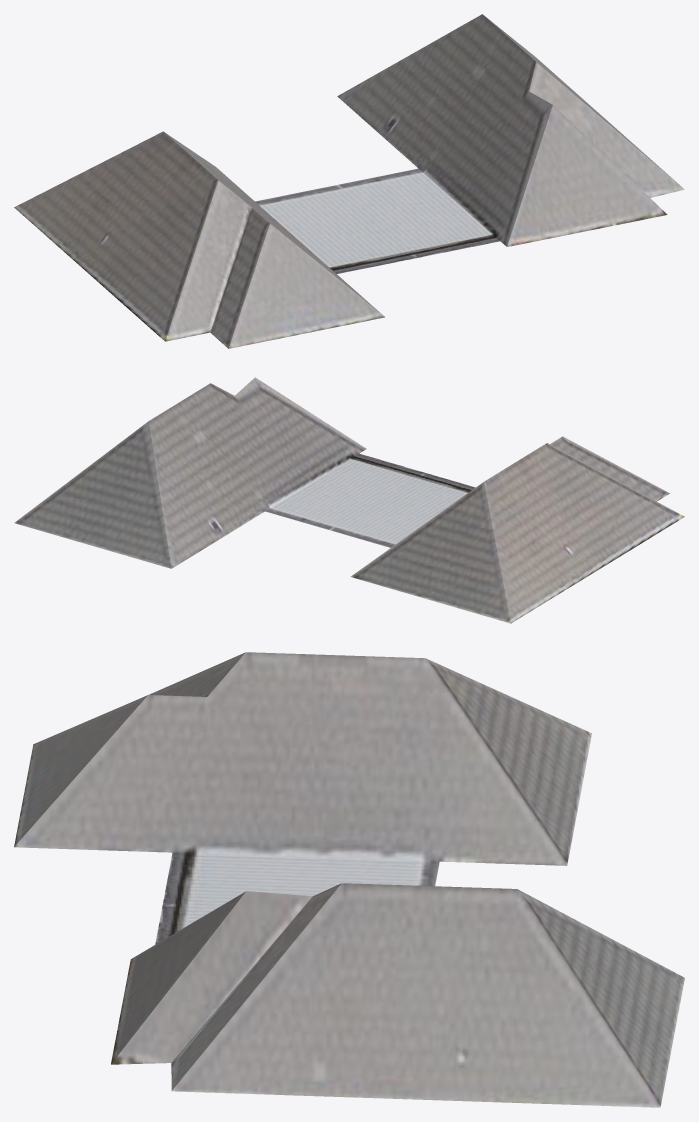
The model's file is BJ39_500_100047_0010_roof.obj.
The picture shows the model from 3 angles, top to bottom: view 1: azimuth 30°, elevation 25°; view 2: azimuth 150°, elevation 25°; view 3: azimuth 270°, elevation 25°; orthographic projection. The views are drawn at different scales.
Visible parts, largest first — view 1: BJ39_500_100047_0010_roof; view 2: BJ39_500_100047_0010_roof; view 3: BJ39_500_100047_0010_roof.
Boxes of the visible parts, x1=… form: BJ39_500_100047_0010_roof: x1=14, y1=14, x2=684, y2=348; BJ39_500_100047_0010_roof: x1=14, y1=377, x2=684, y2=623; BJ39_500_100047_0010_roof: x1=14, y1=652, x2=684, y2=1107.
Bounding box in the file's own units: 428 × 75.43 × 311.
1 material, 1 textured.
